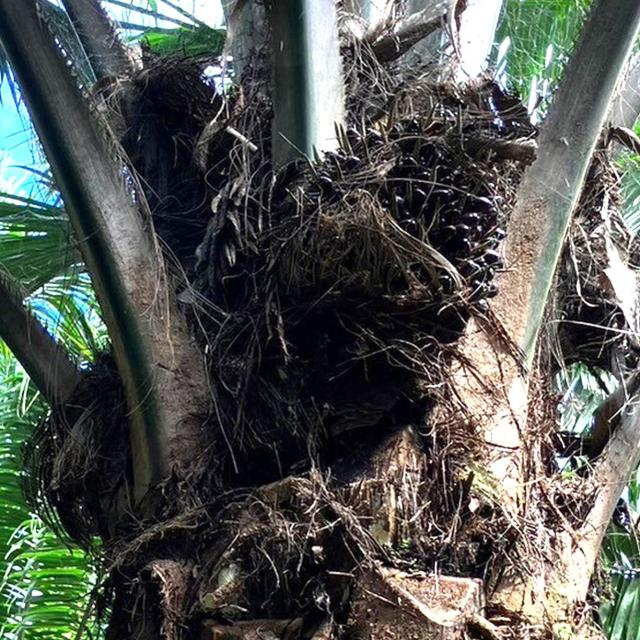ripe: (195, 80, 547, 480)
